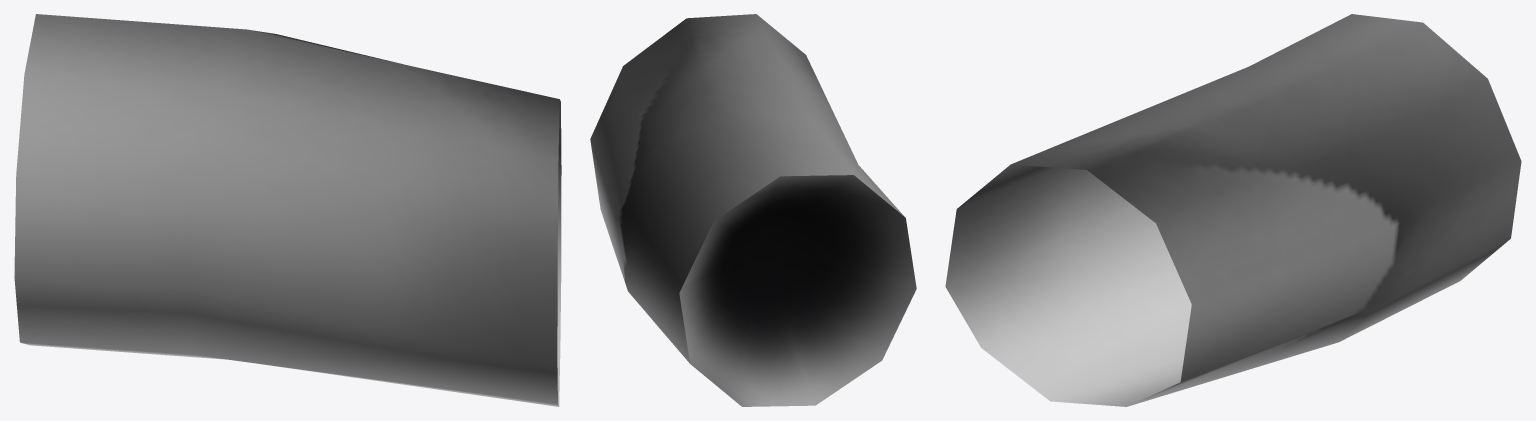
The model's file is Olschool_1_Sidepanel_3_R.fbx.
3 renders of one model, left to right at view 1: azimuth 30°, elevation 25°; view 2: azimuth 150°, elevation 25°; view 3: azimuth 270°, elevation 25°, orthographic. The views are drawn at different scales.
Visible parts, largest first — view 1: Olschool_1_Sidepanel_3_R; view 2: Olschool_1_Sidepanel_3_R; view 3: Olschool_1_Sidepanel_3_R.
Boxes of the visible parts, x1,y1,x2,y2 form: Olschool_1_Sidepanel_3_R: [14, 14, 561, 406]; Olschool_1_Sidepanel_3_R: [590, 14, 916, 406]; Olschool_1_Sidepanel_3_R: [945, 14, 1521, 406].
Bounding box in the file's own units: 88 × 53.43 × 107.
